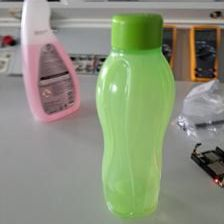bottle: (97, 9, 178, 217)
